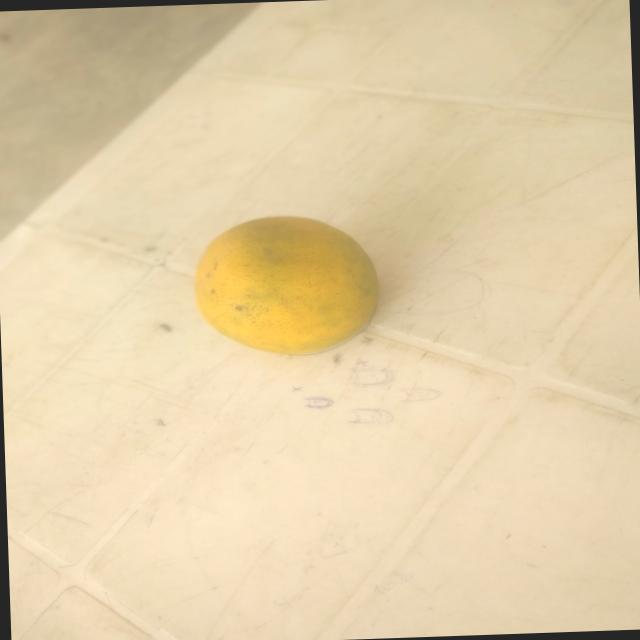Ripe orange: (182, 196, 428, 391)
